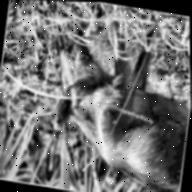boar: (32, 15, 192, 192)
